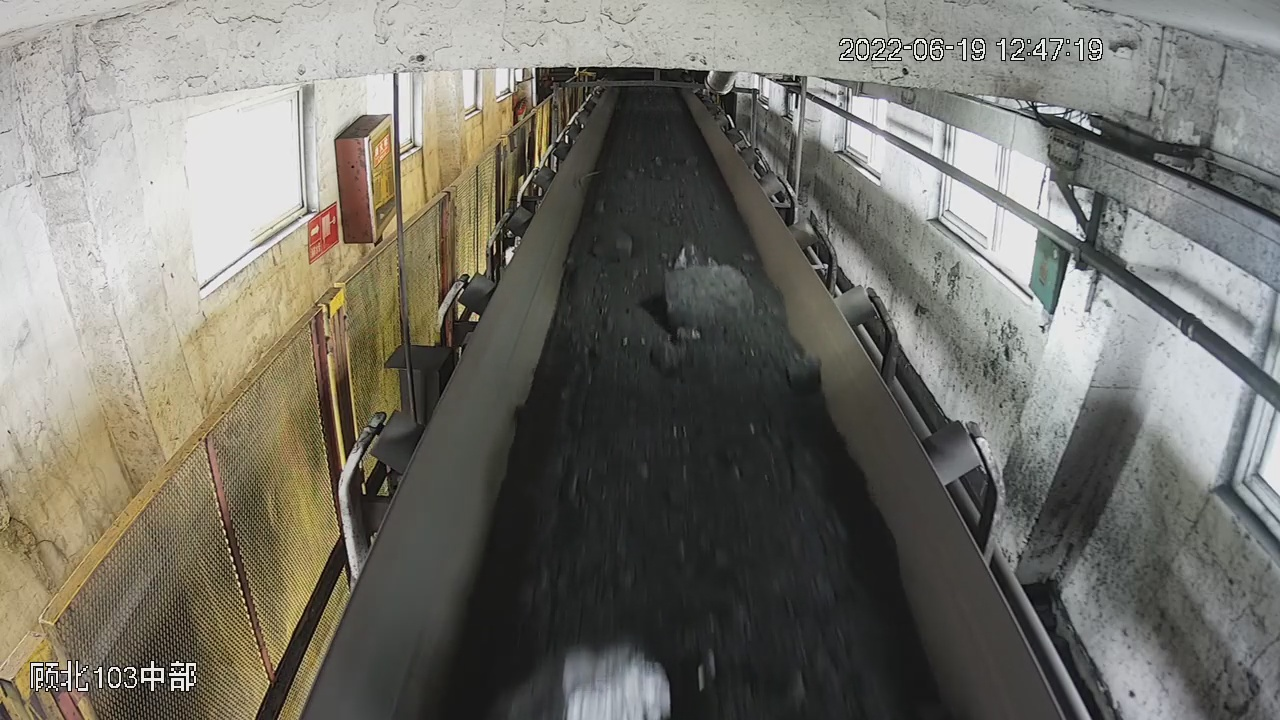gangue: (505, 642, 669, 720), (666, 243, 756, 328), (590, 230, 630, 262), (786, 353, 822, 386)
